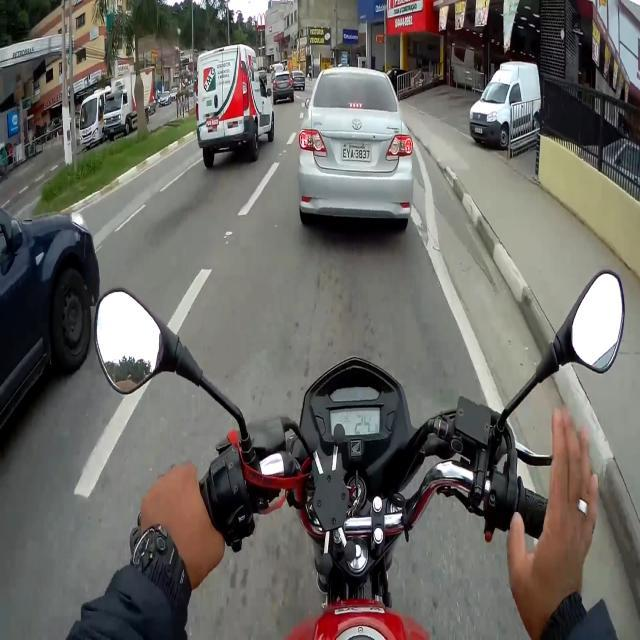Placa_mercosul_carro: (341, 143, 373, 163), (205, 118, 219, 127)
